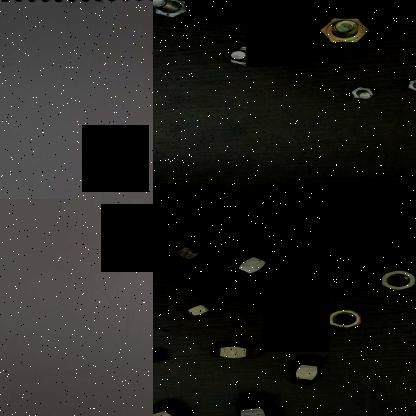Bolts: (312, 14, 384, 44), (220, 43, 269, 67), (342, 81, 382, 103), (153, 0, 197, 20), (398, 75, 416, 93)
NUTS: (364, 261, 416, 293), (208, 334, 264, 362), (178, 294, 230, 324), (284, 348, 322, 388), (230, 250, 282, 278), (232, 387, 282, 416), (163, 240, 213, 269), (320, 302, 366, 331), (153, 393, 190, 416), (153, 344, 172, 370)
